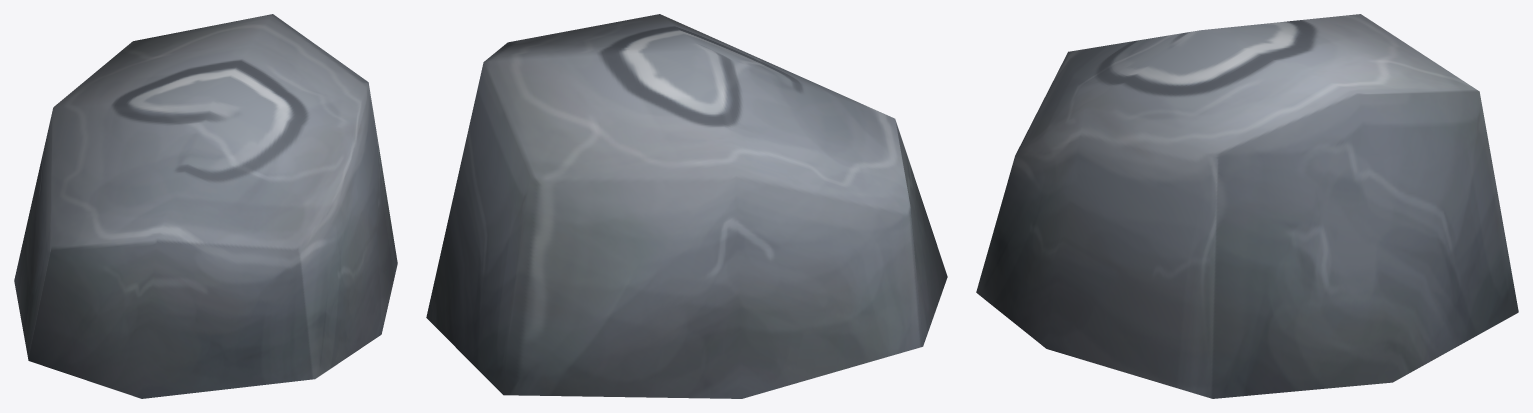
Rendered from rock_01.fbx.
3 renders of one model, left to right at view 1: azimuth 30°, elevation 25°; view 2: azimuth 150°, elevation 25°; view 3: azimuth 270°, elevation 25°, orthographic. The views are drawn at different scales.
Parts seen in each view (by area): view 1: rock; view 2: rock; view 3: rock.
Boxes of the visible parts, x1,y1,x2,y2 form: rock: (14, 14, 397, 398); rock: (426, 14, 947, 398); rock: (976, 14, 1518, 398).
Bounding box in the file's own units: 2.09 × 1.17 × 2.16.
